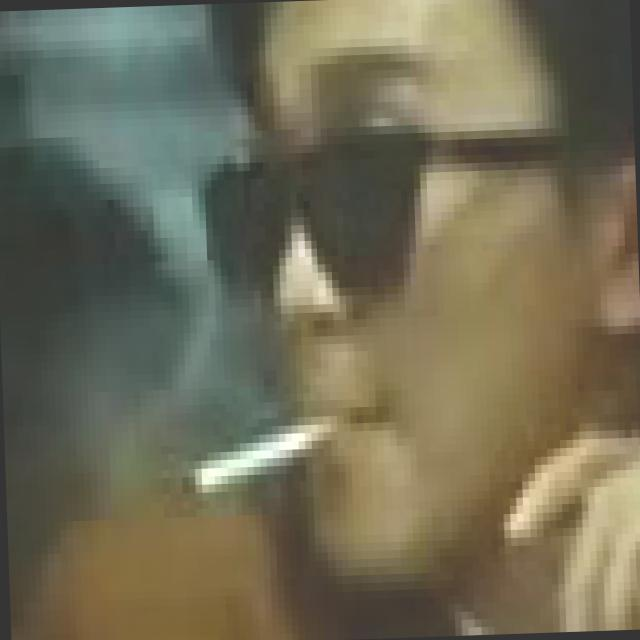cigarette: (172, 419, 338, 516)
